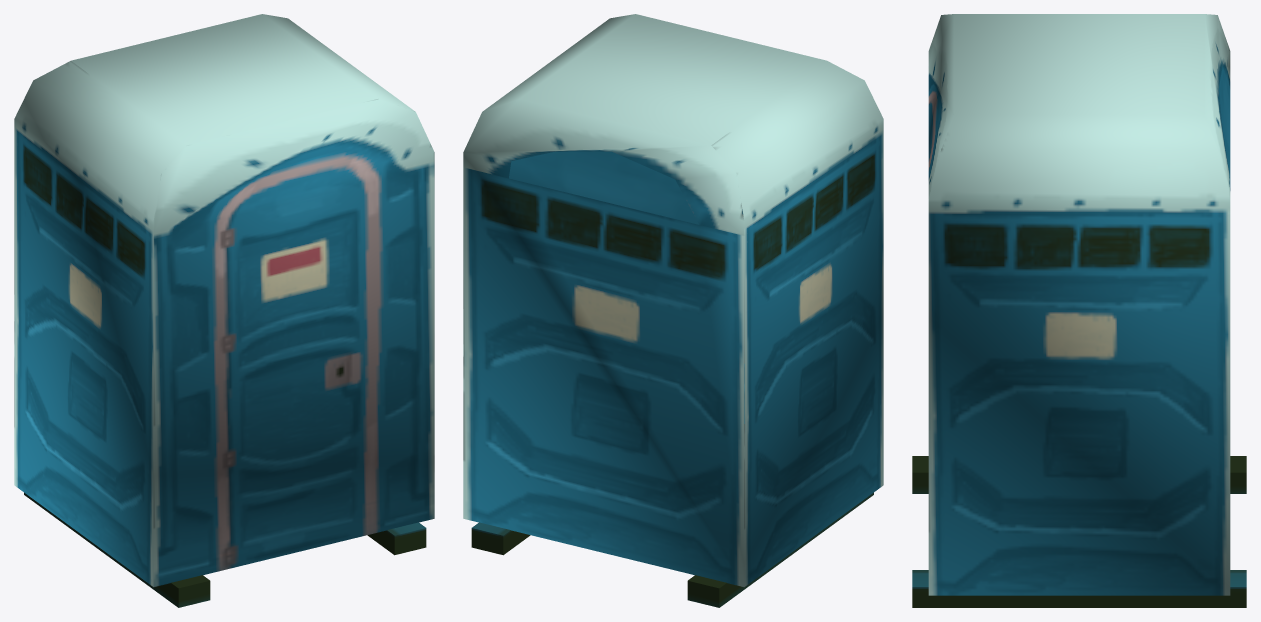
The model's file is portapotty.fbx.
3 renders of one model, left to right at view 1: azimuth 30°, elevation 25°; view 2: azimuth 150°, elevation 25°; view 3: azimuth 270°, elevation 25°, orthographic. The views are drawn at different scales.
Parts seen in each view (by area): view 1: porta potty; view 2: porta potty; view 3: porta potty.
Part boxes in pixels (<box>): porta potty: <box>14,14,434,607</box>; porta potty: <box>463,14,883,607</box>; porta potty: <box>912,14,1246,607</box>.
Bounding box in the file's own units: 126 × 190 × 120.
